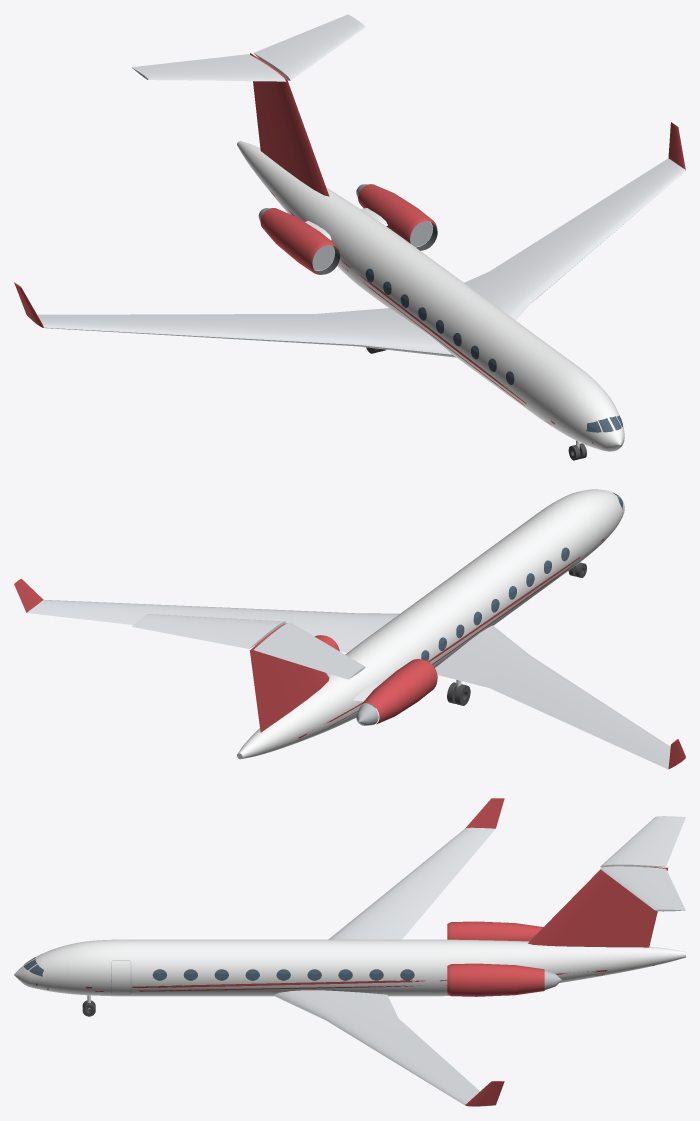
File: plane-jet.glb
3 views of the same model, one above another, from view 1: azimuth 30°, elevation 25°; view 2: azimuth 150°, elevation 25°; view 3: azimuth 270°, elevation 25° (orthographic). The views are drawn at different scales.
Parts seen in each view (by area): view 1: plane-jet; view 2: plane-jet; view 3: plane-jet.
Boxes of the visible parts, bbox=[...] form: plane-jet: bbox=[14, 14, 685, 460]; plane-jet: bbox=[14, 489, 685, 769]; plane-jet: bbox=[14, 798, 685, 1106].
Size of the model in its own units: 30.34 by 7.56 by 30.4.
